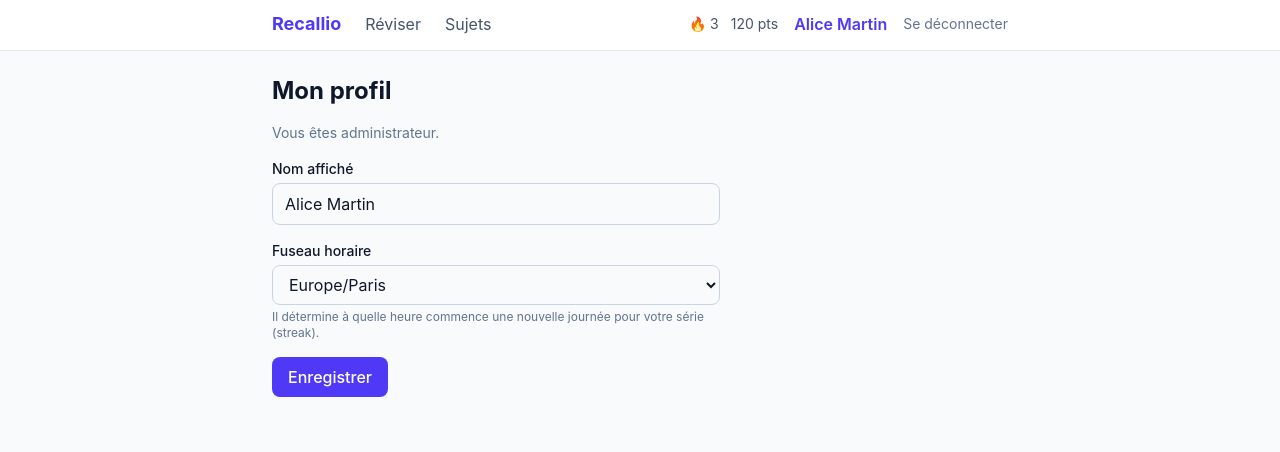
Test: ProfilePage › shows the error returned by the API
The image size is (1280, 452).
Click the button "Enregistrer": {"x": 330, "y": 377} [272,357,388,397]
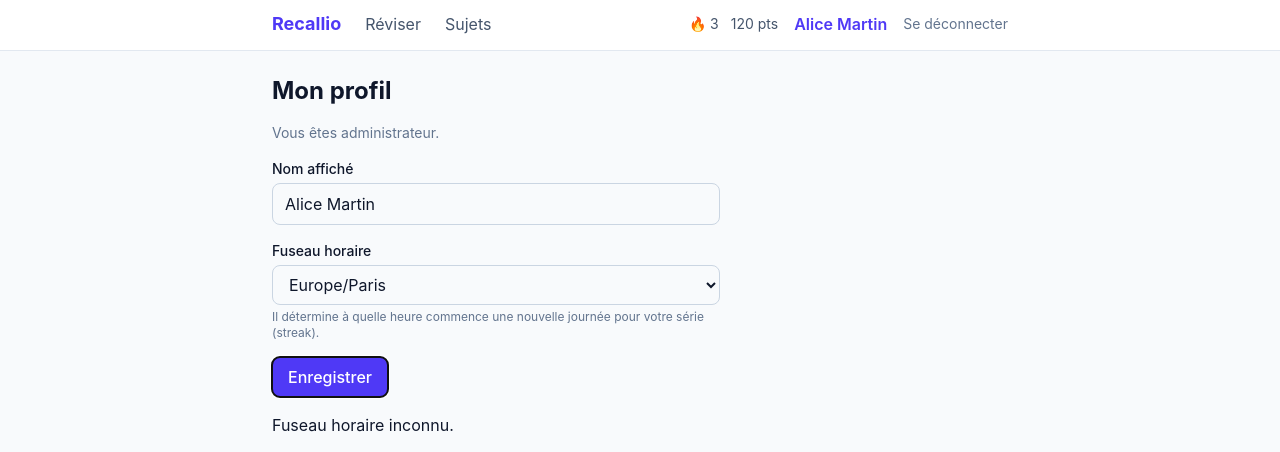
Now the message reads "Fuseau horaire inconnu.", box [272,415,454,435]
